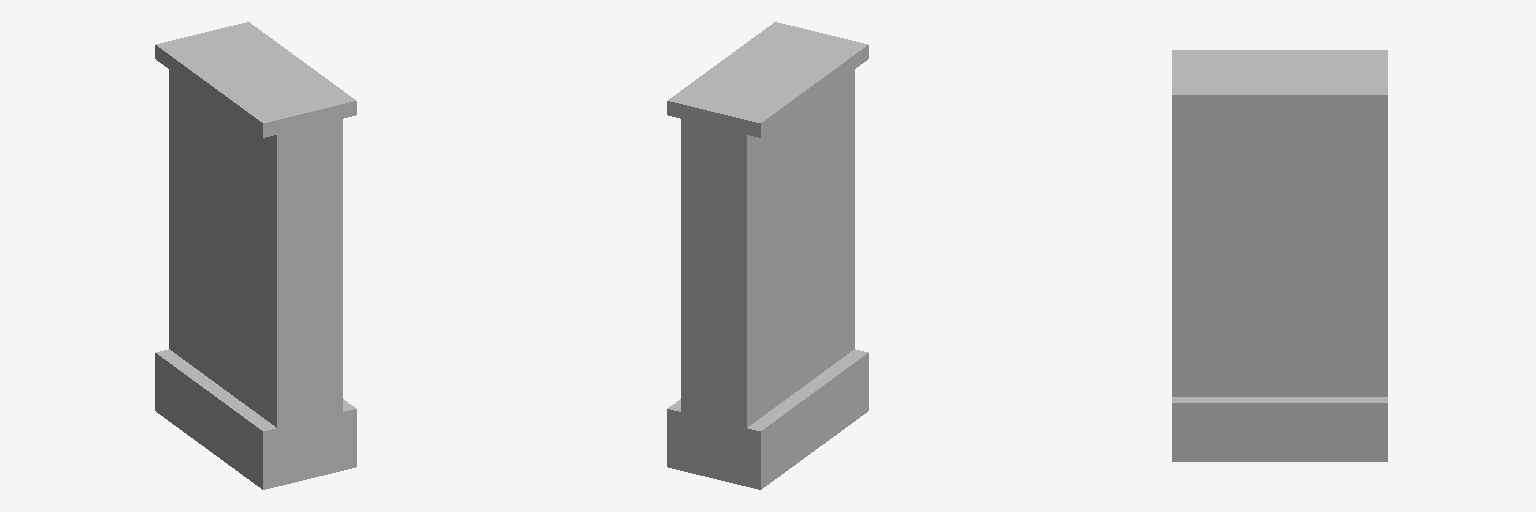
Rendered from Endless light Wall models.obj.
The picture shows the model from 3 angles: view 1: azimuth 30°, elevation 25°; view 2: azimuth 150°, elevation 25°; view 3: azimuth 270°, elevation 25°; orthographic projection.
Visible parts, largest first — view 1: Wall_Cube.002; view 2: Wall_Cube.002; view 3: Wall_Cube.002.
Boxes of the visible parts, x1=… form: Wall_Cube.002: x1=155, y1=22, x2=356, y2=489; Wall_Cube.002: x1=667, y1=22, x2=868, y2=489; Wall_Cube.002: x1=1172, y1=50, x2=1387, y2=461.
Size of the model in its own units: 0.5 by 1.88 by 1.